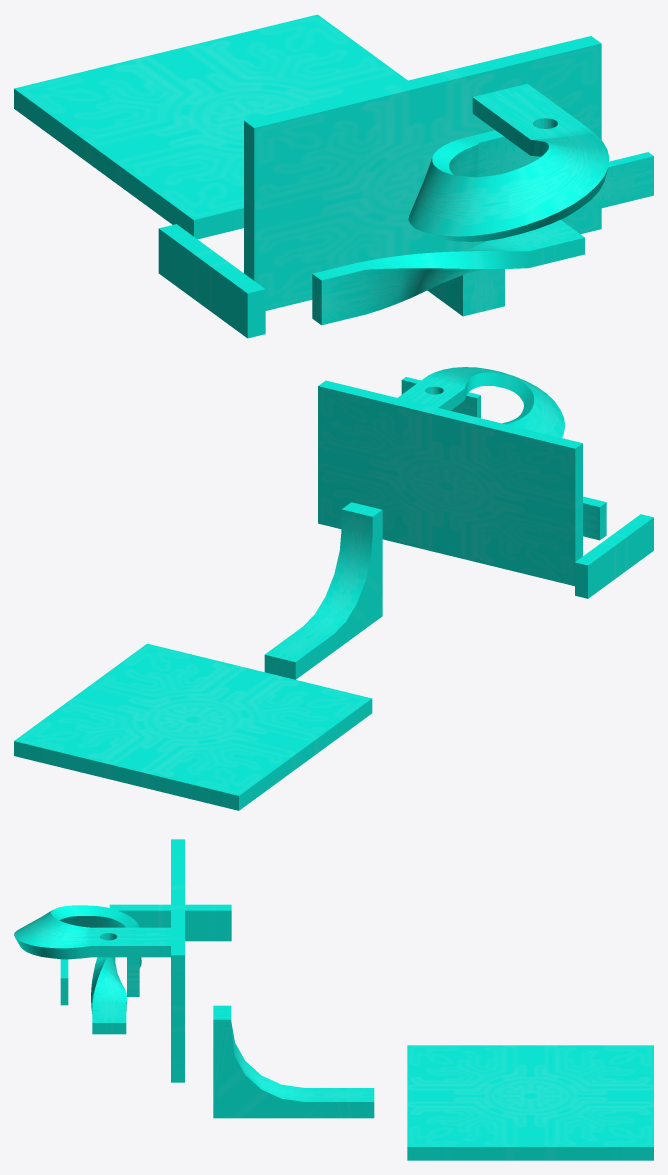
The model's file is 0_ground.fbx.
3 views of the same model, one above another, from view 1: azimuth 30°, elevation 25°; view 2: azimuth 150°, elevation 25°; view 3: azimuth 270°, elevation 25° (orthographic). The views are drawn at different scales.
Visible parts, largest first — view 1: mqo_mesh; view 2: mqo_mesh; view 3: mqo_mesh.
Boxes of the visible parts, box(x1,y1,x2,y2) form: mqo_mesh: box(14, 14, 653, 338); mqo_mesh: box(14, 367, 653, 810); mqo_mesh: box(14, 839, 653, 1160).
Bounding box in the file's own units: 335 × 185 × 579.
